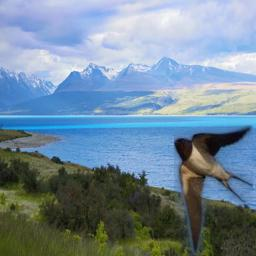Swallow: (174, 125, 253, 255)
